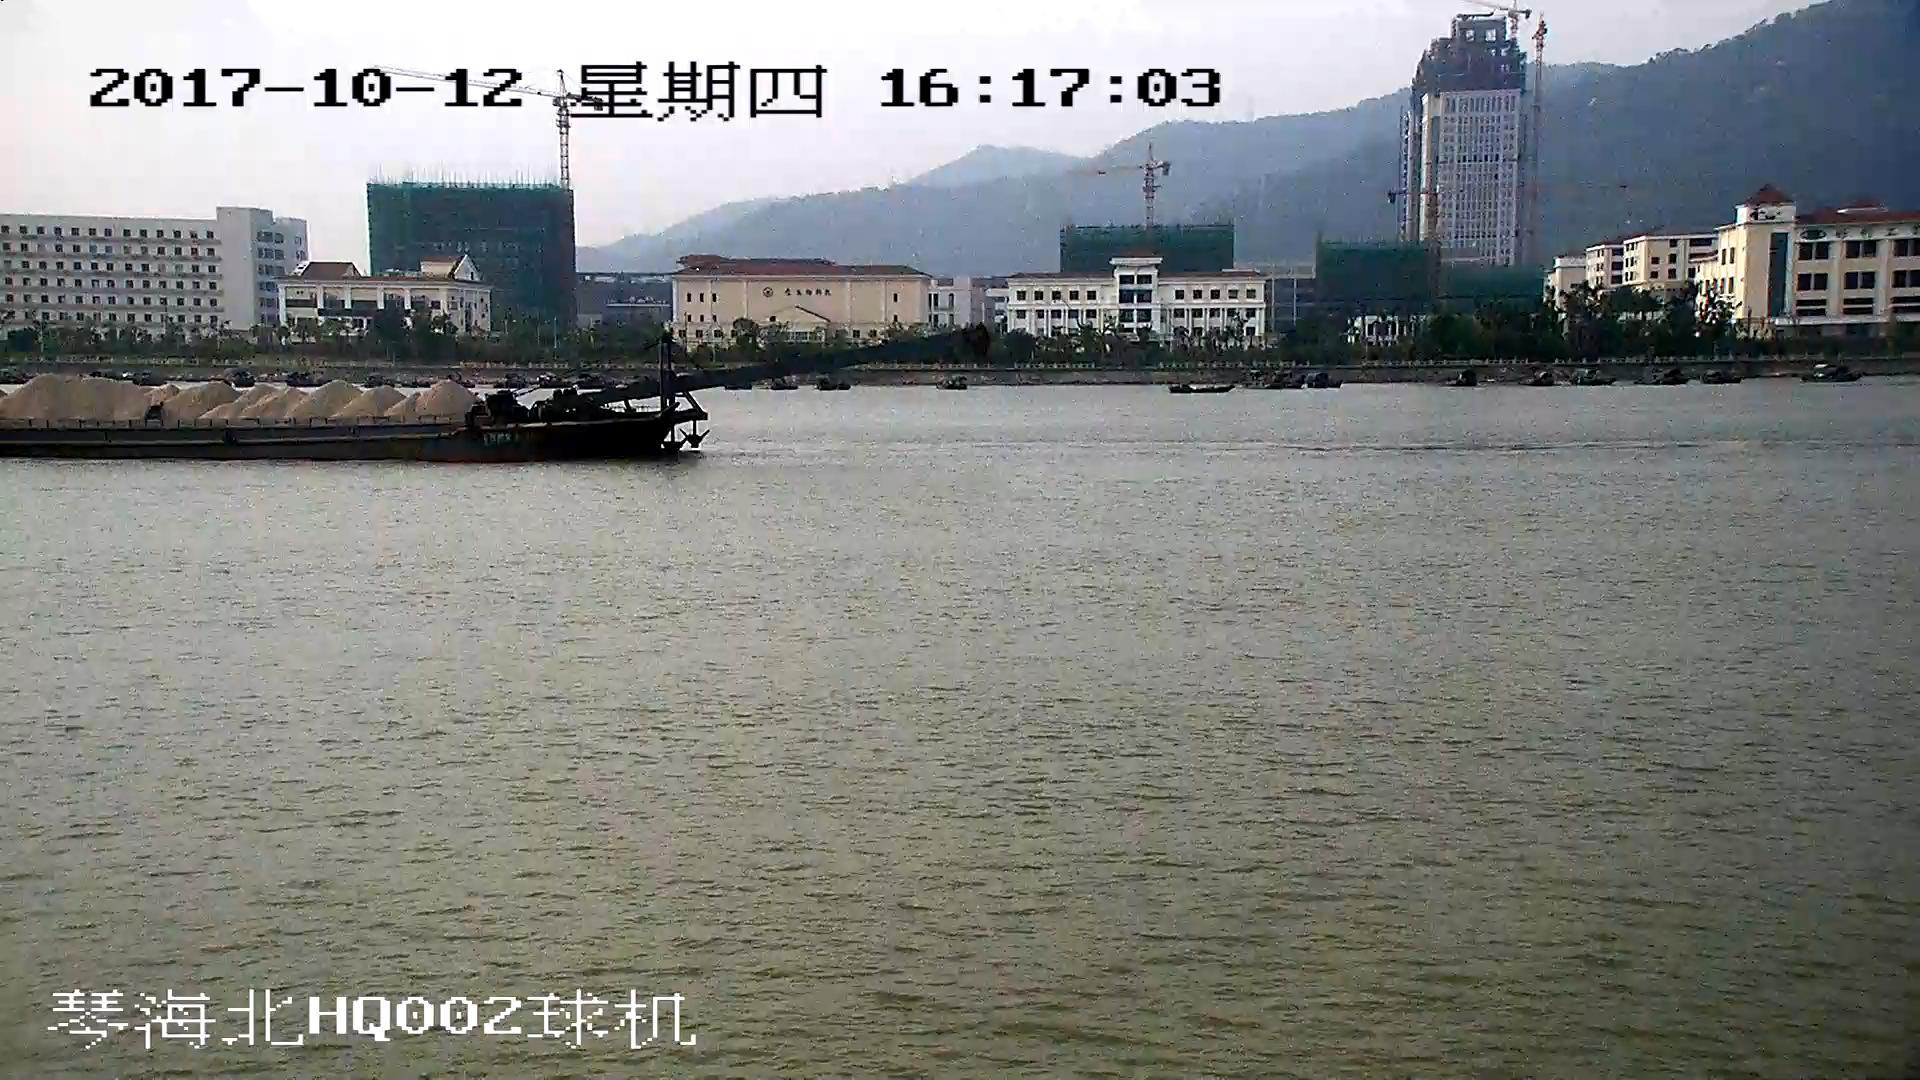Ship: (3, 327, 975, 465)
